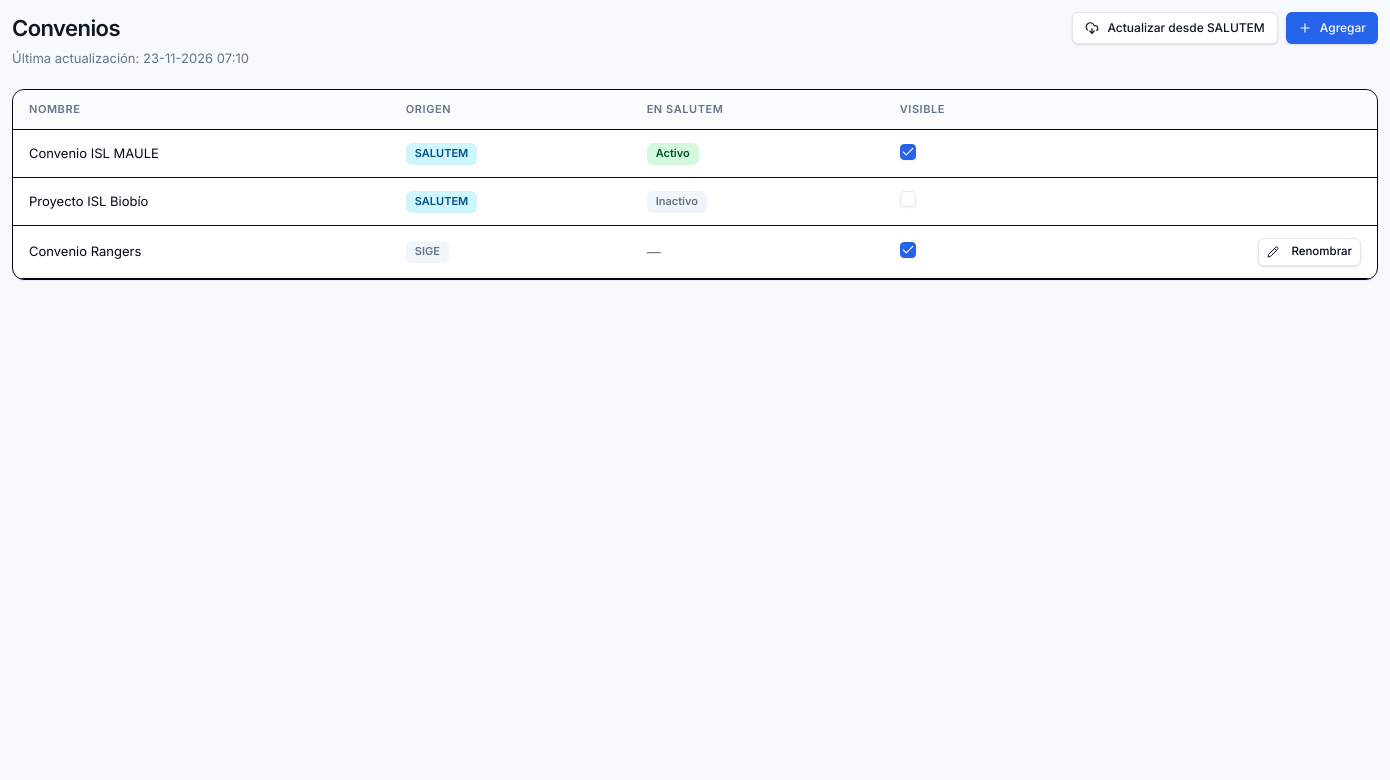
Test: ConveniosPage › Actualizar desde SALUTEM muestra el resultado
This screenshot has width=1390, height=780.
Click the button with test id "btn-actualizar-salutem".
click(1175, 28)  # box [1072,12,1278,44]
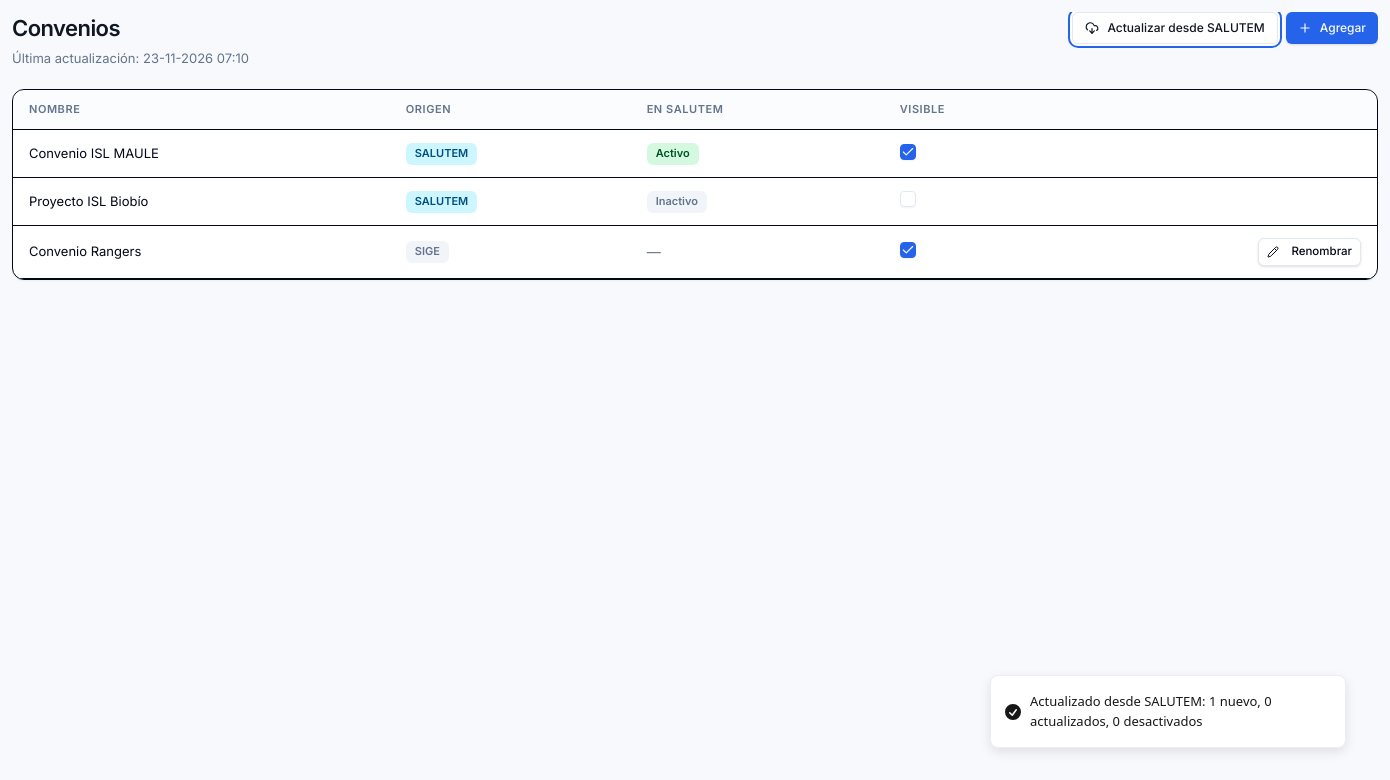
expect the text "1 nuevo" is shown: met, box [1030,692,1272,730]
